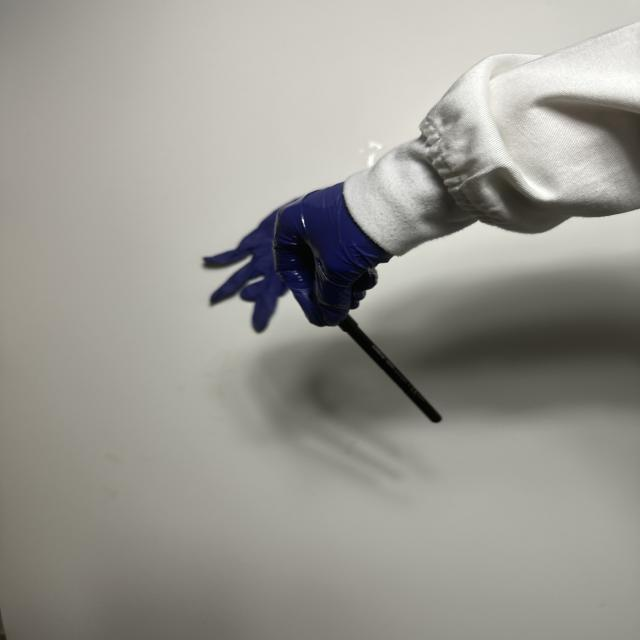gloves_contaminated: (274, 184, 391, 326)
